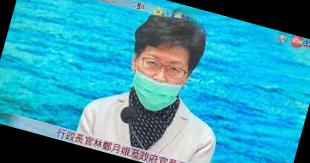mask_weared_incorrect: (132, 49, 191, 105)
